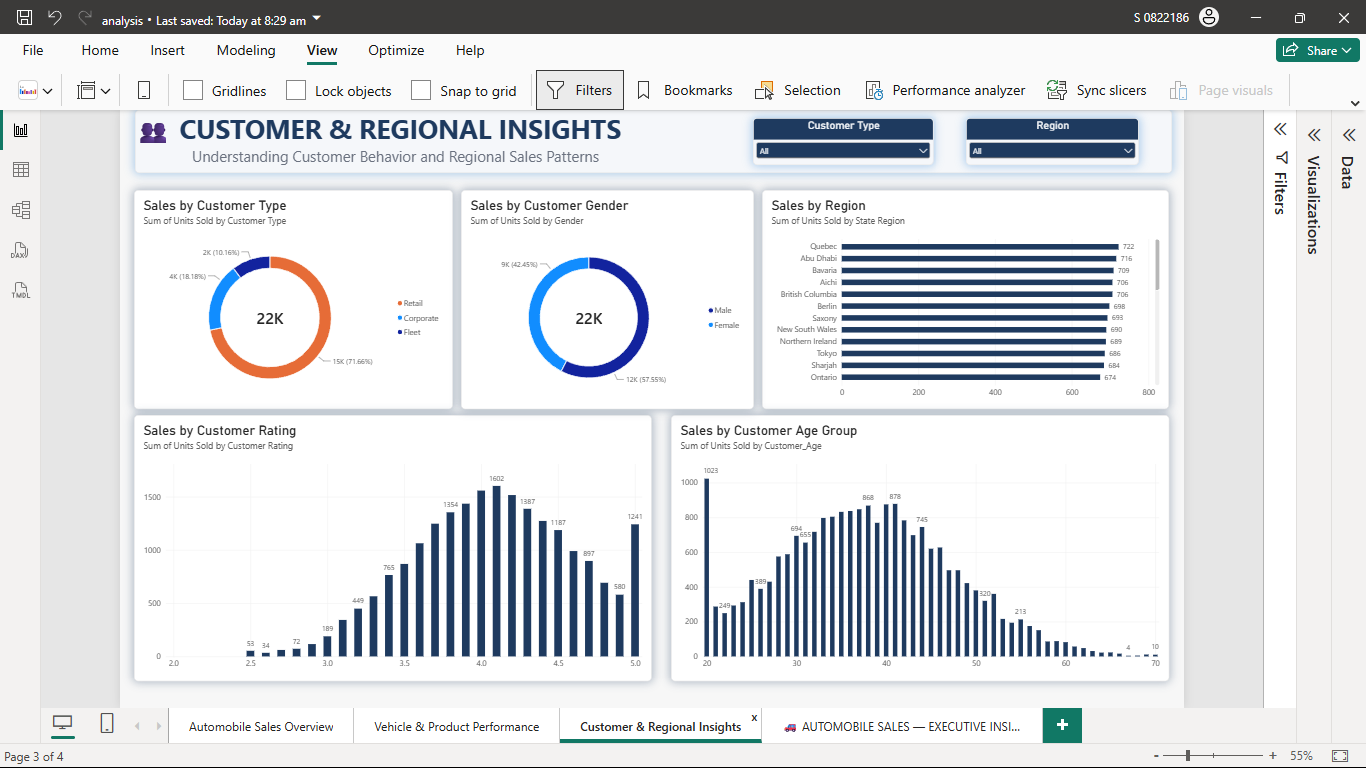

The dashboard page shown, as its layout file describes it:
{"tool":"powerbi","page":{"name":"Customer & Regional Insights","canvas":[1920,1080],"ordinal":2},"visuals":[{"type":"textbox","box":[26.8,0,1872.5,113.5],"z":0},{"type":"slicer","title":"Customer Type","fields":{"Values":["Automobile_Sales_Analytics_Dataset_15000_Rows.Customer Type"]},"box":[1143.1,13.8,326.2,84.6],"z":1000},{"type":"slicer","title":"Region","fields":{"Values":["Automobile_Sales_Analytics_Dataset_15000_Rows.State Region"]},"box":[1527.4,13.8,311.7,84.6],"z":2000},{"type":"donutChart","title":"Sales by Customer Type","fields":{"Category":["Automobile_Sales_Analytics_Dataset_15000_Rows.Customer Type"],"Y":["Sum(Automobile_Sales_Analytics_Dataset_15000_Rows.Units Sold)"]},"box":[24.8,144.5,576,396.4],"z":3000},{"type":"clusteredBarChart","title":" Sales by Region","fields":{"Category":["Automobile_Sales_Analytics_Dataset_15000_Rows.State Region"],"Y":["Sum(Automobile_Sales_Analytics_Dataset_15000_Rows.Units Sold)"]},"box":[1160.3,144.5,735,396.4],"z":4000},{"type":"clusteredColumnChart","title":"Sales by Customer Rating","fields":{"Category":["Automobile_Sales_Analytics_Dataset_15000_Rows.Customer Rating"],"Y":["Sum(Automobile_Sales_Analytics_Dataset_15000_Rows.Units Sold)"]},"box":[24.8,551.2,935.2,481],"z":5000},{"type":"clusteredColumnChart","title":"Sales by Customer Age Group","fields":{"Category":["Automobile_Sales_Analytics_Dataset_15000_Rows.Customer_Age"],"Y":["Sum(Automobile_Sales_Analytics_Dataset_15000_Rows.Units Sold)"]},"box":[995.1,551.2,900.1,481],"z":6000},{"type":"donutChart","title":"Sales by Customer Gender","fields":{"Category":["Automobile_Sales_Analytics_Dataset_15000_Rows.Gender"],"Y":["Sum(Automobile_Sales_Analytics_Dataset_15000_Rows.Units Sold)"]},"box":[615.2,144.5,528.5,396.4],"z":7000}]}

Visuals, with their boxes on the page's 1920x1080 design canvas (x1, y1, x2, y2). These are canvas units, not pixel positions in the 1366x768 screenshot, which may show the page scaled, cropped or inside an application window:
textbox: Rect(27, 0, 1899, 114)
"Customer Type" slicer: Rect(1143, 14, 1469, 98)
"Region" slicer: Rect(1527, 14, 1839, 98)
"Sales by Customer Type" donutChart: Rect(25, 144, 601, 541)
" Sales by Region" clusteredBarChart: Rect(1160, 144, 1895, 541)
"Sales by Customer Rating" clusteredColumnChart: Rect(25, 551, 960, 1032)
"Sales by Customer Age Group" clusteredColumnChart: Rect(995, 551, 1895, 1032)
"Sales by Customer Gender" donutChart: Rect(615, 144, 1144, 541)
